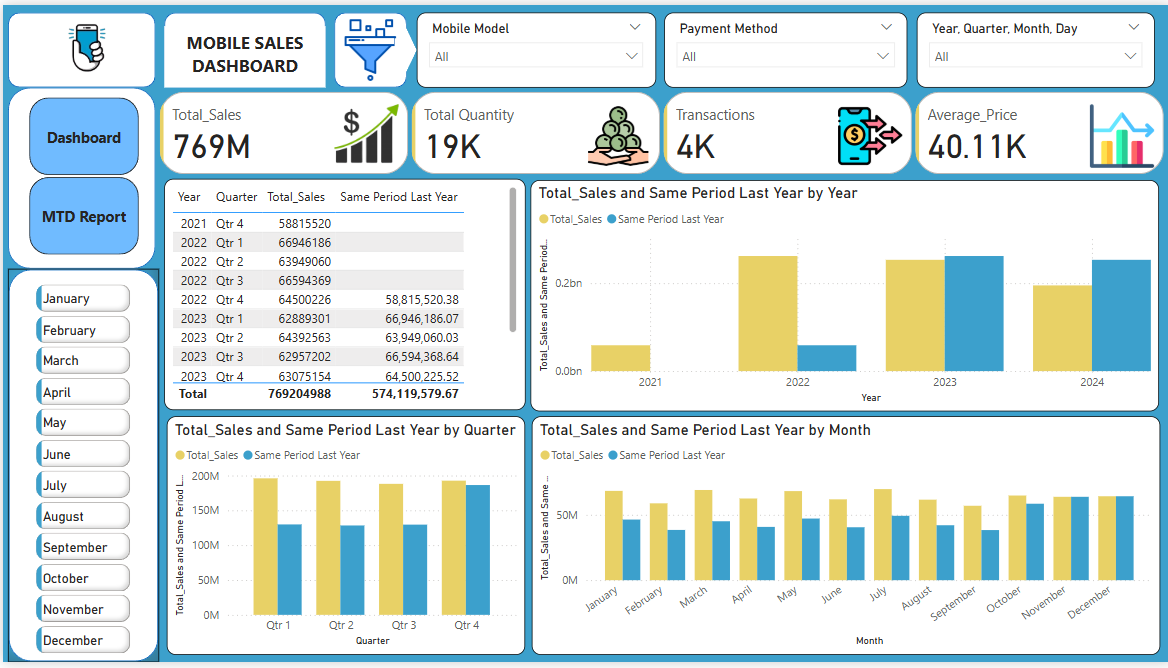

This screenshot's page, from the dashboard's own definition file:
{"tool":"powerbi","page":{"name":"Same Period Last Year","canvas":[1280,720],"ordinal":2},"visuals":[{"type":"shape","box":[5.5,8.2,161.6,82.2],"z":0},{"type":"image","box":[16.5,8.2,150.9,82.3],"z":1000},{"type":"shape","box":[5.5,90.4,161.6,198.6],"z":2000},{"type":"cardVisual","fields":{"Data":["Sales_Data.Total_Sales","Sales_Data.Total Quantity","Sales_Data.Transactions","Sales_Data.Average_Price"]},"box":[167.4,90.6,1112.9,100.2],"z":3000},{"type":"slicer","fields":{"Values":["Sales_Data.Mobile Model"]},"box":[452.8,8.2,262.1,82.3],"z":4000},{"type":"slicer","fields":{"Values":["Sales_Data.Payment Method"]},"box":[724.5,8.2,266.2,82.3],"z":5000},{"type":"shape","box":[363.6,8.2,79.6,82.3],"z":6000},{"type":"slicer","fields":{"Values":["Custum_Calender.Date.Variation.Date Hierarchy.Year","Custum_Calender.Date.Variation.Date Hierarchy.Quarter","Custum_Calender.Date.Variation.Date Hierarchy.Month","Custum_Calender.Date.Variation.Date Hierarchy.Day"]},"box":[1001.7,8.2,260.7,82.3],"z":7000},{"type":"image","box":[363.6,8.2,79.6,82.3],"z":8000},{"type":"shape","box":[428.1,23.3,24.7,52.1],"z":9000},{"type":"shape","box":[177,8.2,177,82.3],"z":10000},{"type":"textbox","box":[177,23.3,177,67.2],"z":11000},{"type":"shape","box":[5.5,289,165.8,431.5],"z":12000},{"type":"advancedSlicerVisual","fields":{"Values":["Custum_Calender.Date.Variation.Date Hierarchy.Month"]},"box":[31.6,301.5,113.9,418.5],"z":13000},{"type":"tableEx","fields":{"Values":["Custum_Calender.Date.Variation.Date Hierarchy.Year","Custum_Calender.Date.Variation.Date Hierarchy.Quarter","Sales_Data.Total_Sales","Sales_Data.Same Period Last Year"]},"box":[176.7,190.4,395.9,253.4],"z":14000},{"type":"clusteredColumnChart","fields":{"Category":["Custum_Calender.Date.Variation.Date Hierarchy.Year","Custum_Calender.Date.Variation.Date Hierarchy.Quarter"],"Y":["Sales_Data.Total_Sales","Sales_Data.Same Period Last Year"]},"box":[578.1,191.8,689,253.4],"z":15000},{"type":"clusteredColumnChart","fields":{"Y":["Sales_Data.Total_Sales","Sales_Data.Same Period Last Year"],"Category":["Custum_Calender.Date.Variation.Date Hierarchy.Year","Custum_Calender.Date.Variation.Date Hierarchy.Quarter","Custum_Calender.Date.Variation.Date Hierarchy.Month","Custum_Calender.Date.Variation.Date Hierarchy.Day"]},"box":[579.5,450.7,689,261.6],"z":15001},{"type":"clusteredColumnChart","fields":{"Y":["Sales_Data.Total_Sales","Sales_Data.Same Period Last Year"],"Category":["Custum_Calender.Date.Variation.Date Hierarchy.Year","Custum_Calender.Date.Variation.Date Hierarchy.Quarter","Custum_Calender.Date.Variation.Date Hierarchy.Month","Custum_Calender.Date.Variation.Date Hierarchy.Day"]},"box":[179.5,450.7,393.2,261.6],"z":15002},{"type":"pageNavigator","box":[28.8,101.4,120.5,174],"z":15003}]}

Visuals, with their boxes in screenshot pixels (x1, y1, x2, y2), scaled from the page's 1280x720 canvas onto the 1168x668 screenshot:
shape: <box>5,8,152,84</box>
image: <box>15,8,153,84</box>
shape: <box>5,84,152,268</box>
cardVisual - Sales_Data.Total_Sales x Sales_Data.Total Quantity: <box>153,84,1167,177</box>
slicer - Sales_Data.Mobile Model: <box>413,8,652,84</box>
slicer - Sales_Data.Payment Method: <box>661,8,904,84</box>
shape: <box>332,8,404,84</box>
slicer - Custum_Calender.Date.Variation.Date Hierarchy.Year x Custum_Calender.Date.Variation.Date Hierarchy.Quarter: <box>914,8,1152,84</box>
image: <box>332,8,404,84</box>
shape: <box>391,22,413,70</box>
shape: <box>162,8,323,84</box>
textbox: <box>162,22,323,84</box>
shape: <box>5,268,156,667</box>
advancedSlicerVisual - Custum_Calender.Date.Variation.Date Hierarchy.Month: <box>29,280,133,667</box>
tableEx - Custum_Calender.Date.Variation.Date Hierarchy.Year x Custum_Calender.Date.Variation.Date Hierarchy.Quarter: <box>161,177,522,412</box>
clusteredColumnChart - Custum_Calender.Date.Variation.Date Hierarchy.Year x Custum_Calender.Date.Variation.Date Hierarchy.Quarter: <box>528,178,1156,413</box>
clusteredColumnChart - Sales_Data.Total_Sales x Sales_Data.Same Period Last Year: <box>529,418,1158,661</box>
clusteredColumnChart - Sales_Data.Total_Sales x Sales_Data.Same Period Last Year: <box>164,418,523,661</box>
pageNavigator: <box>26,94,136,256</box>
